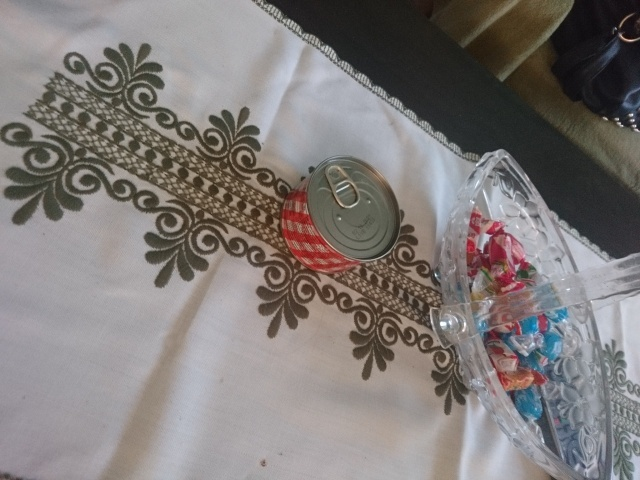Podravka Luncheon Meat 150g: (276, 152, 405, 277)
